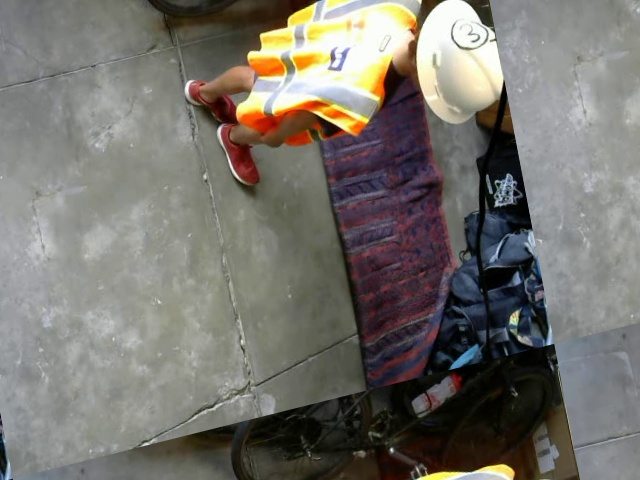three: (448, 13, 490, 53)
